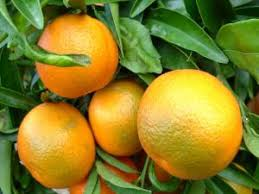orange: (135, 62, 244, 183), (36, 11, 121, 100), (17, 100, 97, 185), (89, 81, 148, 156)
